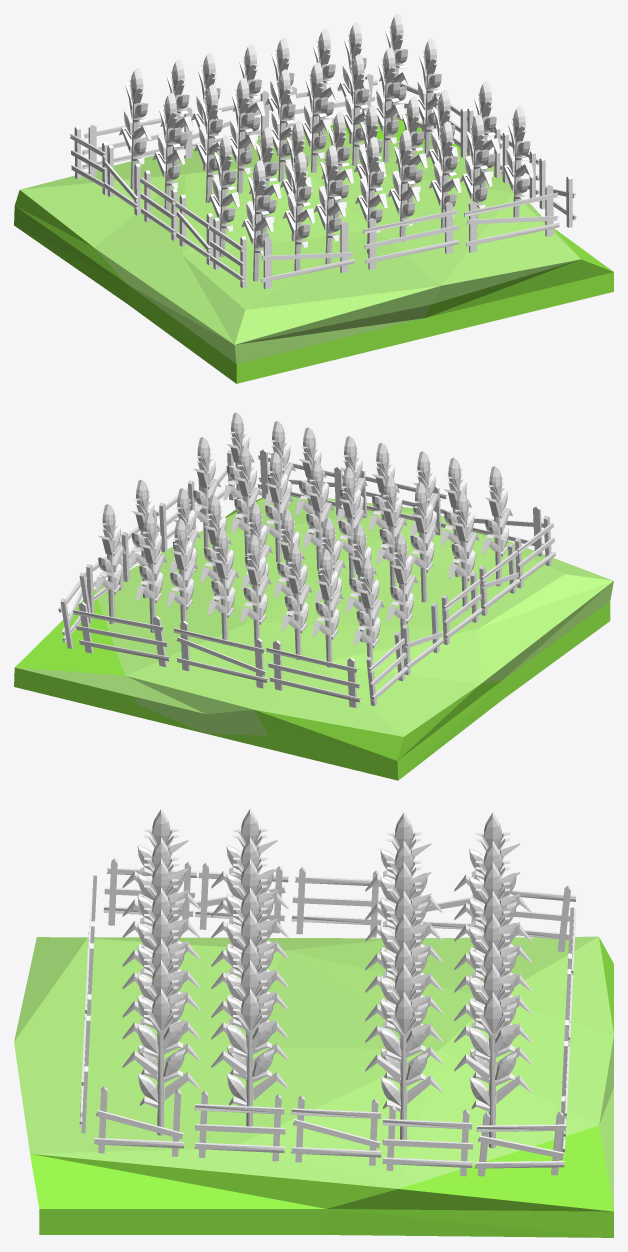
The model's file is building_vegefarm.fbx.
3 views of the same model, one above another, from view 1: azimuth 30°, elevation 25°; view 2: azimuth 150°, elevation 25°; view 3: azimuth 270°, elevation 25° (orthographic). The views are drawn at different scales.
Parts seen in each view (by area): view 1: grass; view 2: grass; view 3: grass.
Part boxes in pixels (x1,y1,x2,y2): grass: [14, 14, 613, 383]; grass: [14, 412, 613, 780]; grass: [14, 809, 613, 1237].
Bounding box in the file's own units: 51.6 × 21.88 × 52.21.
